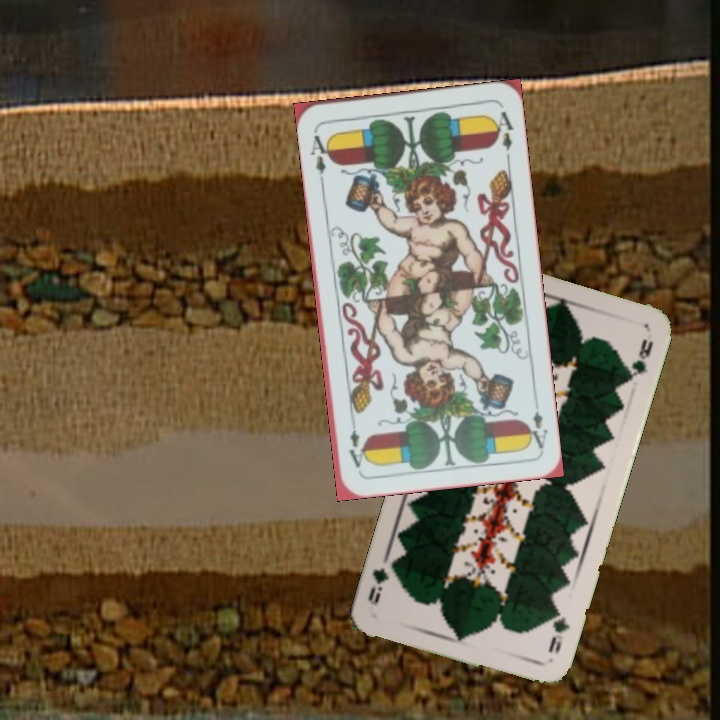EA: (306, 126, 334, 185), (523, 393, 550, 451)
G9: (544, 604, 573, 656)
